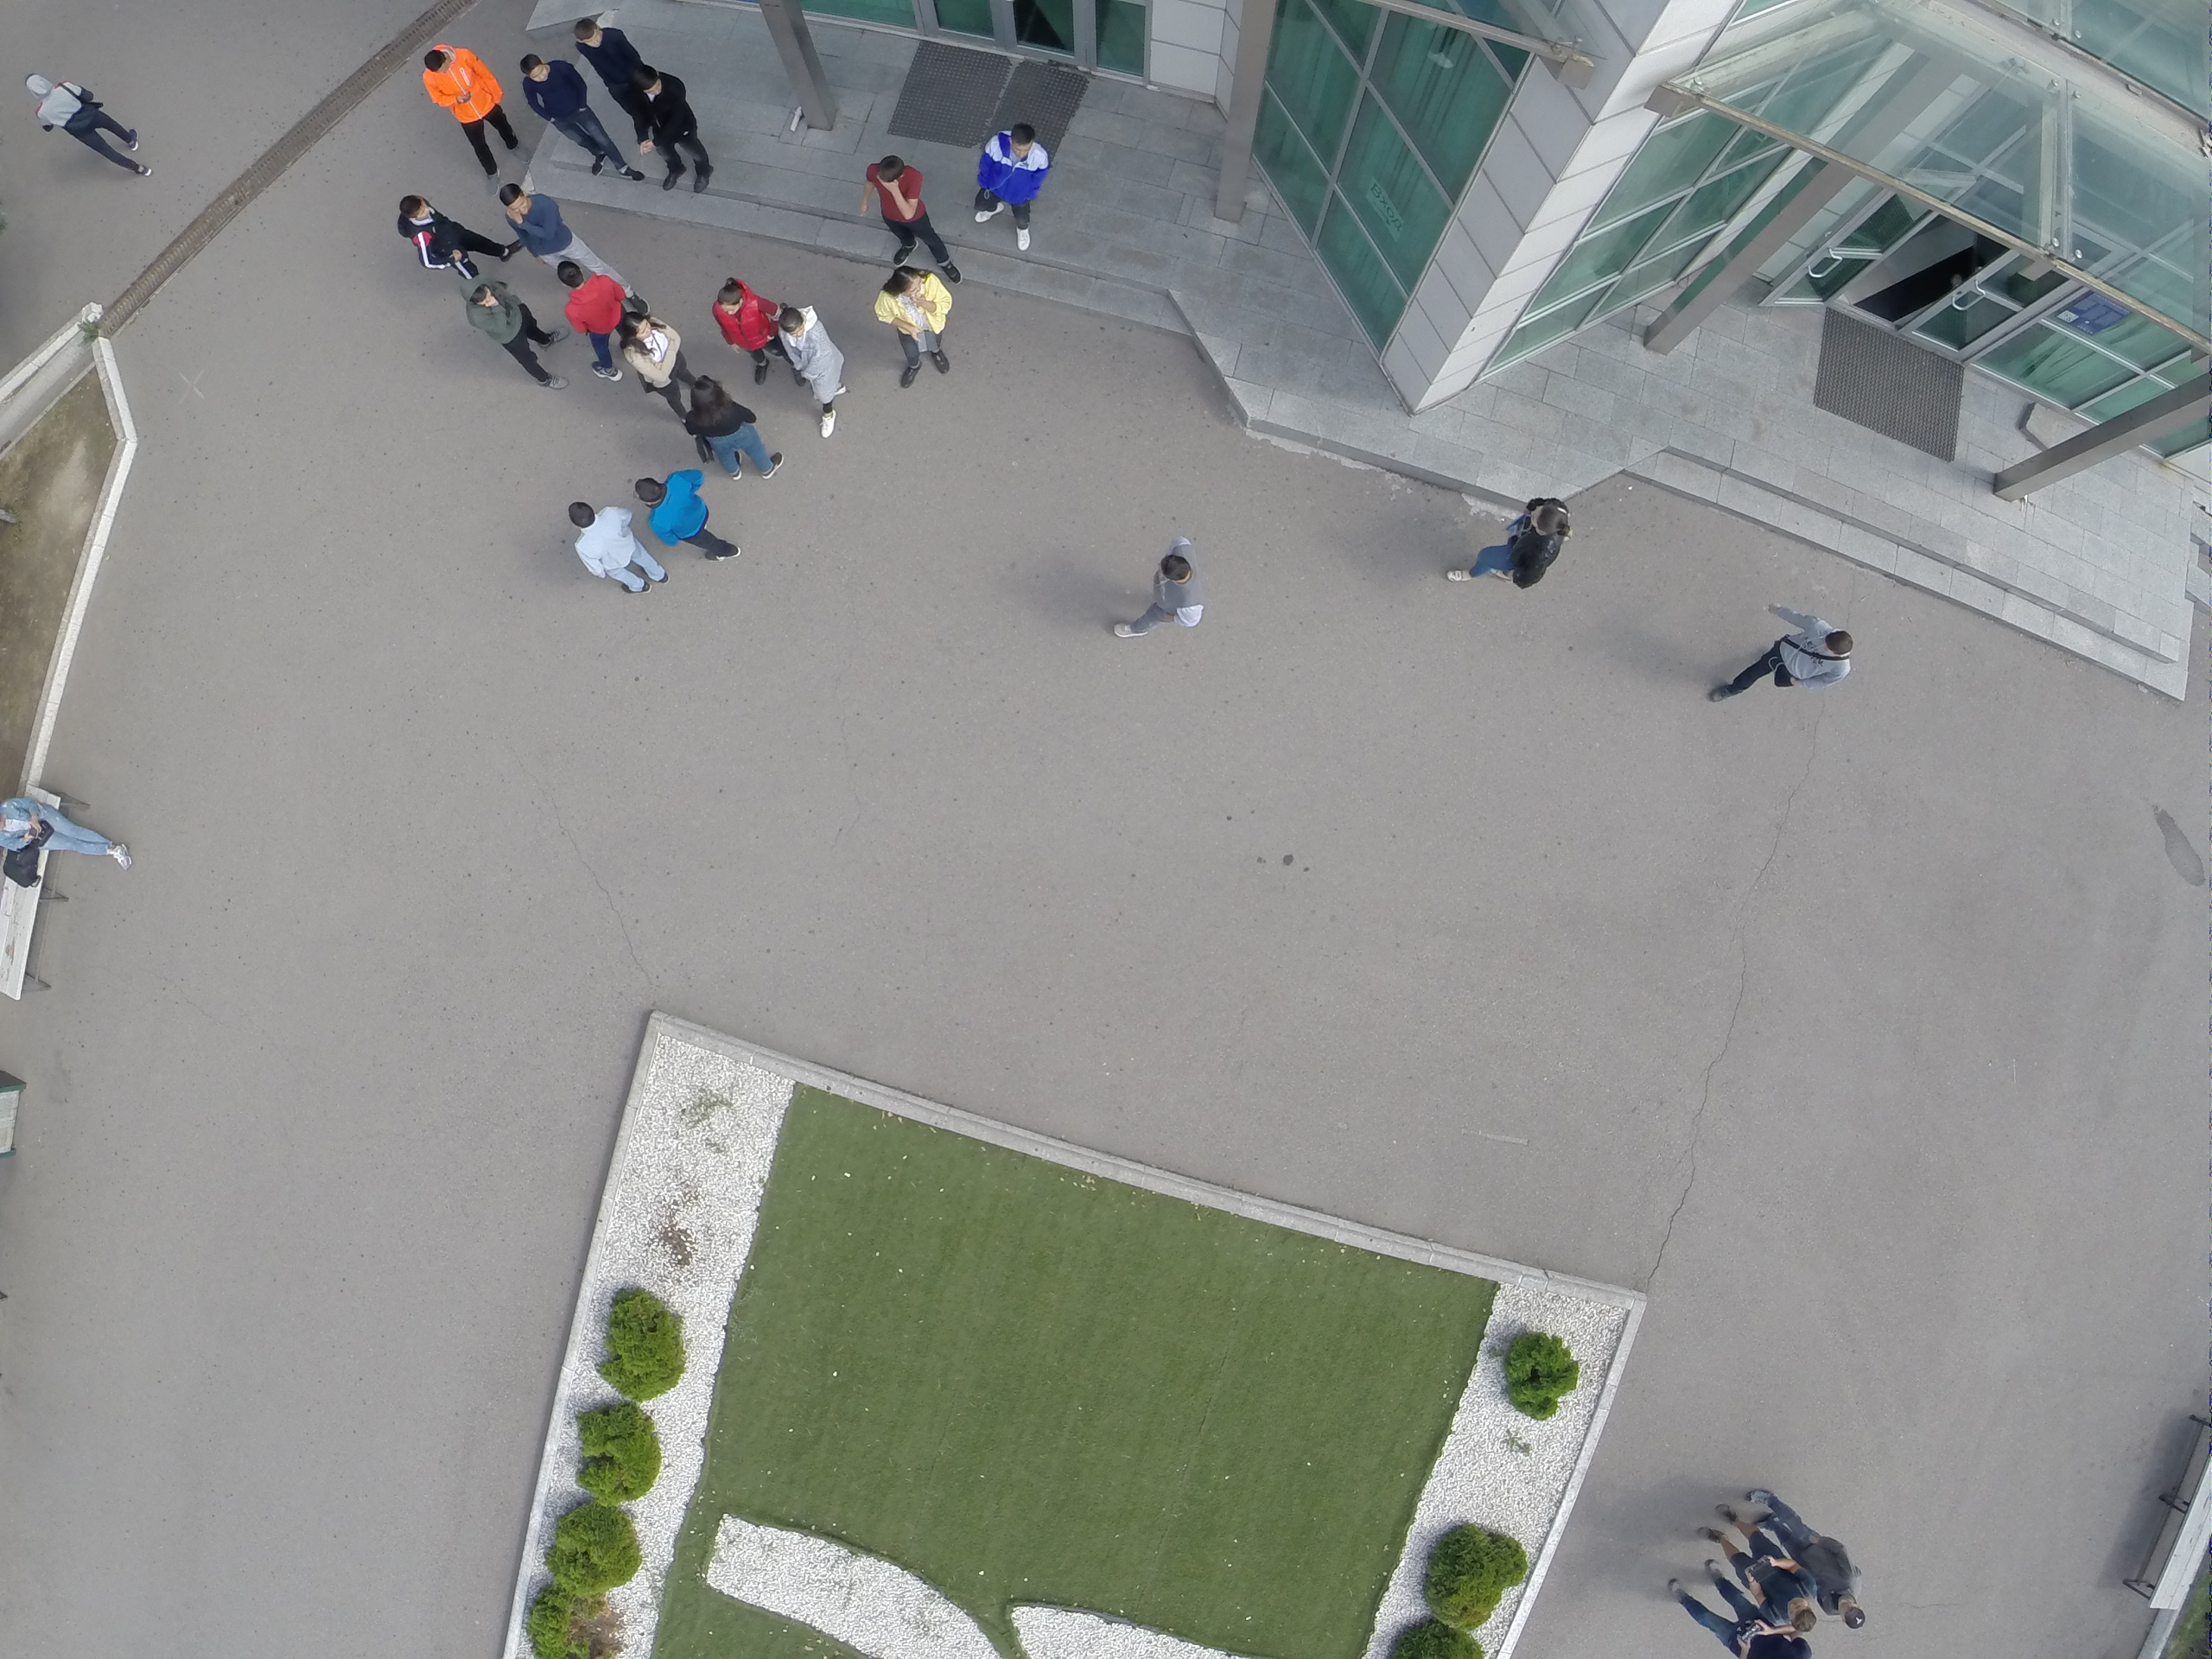person: (1692, 1500, 1823, 1634), (1706, 600, 1853, 717), (520, 48, 633, 188), (23, 66, 153, 180), (422, 44, 523, 177), (1446, 487, 1570, 588), (461, 275, 566, 392), (864, 152, 963, 272), (566, 498, 675, 600), (771, 302, 848, 442), (682, 374, 783, 481), (636, 62, 715, 195), (1106, 532, 1198, 645), (401, 192, 508, 287), (1, 794, 134, 871), (875, 263, 957, 388), (638, 467, 739, 569), (970, 124, 1051, 251), (555, 257, 628, 381), (622, 309, 696, 416), (711, 276, 782, 384), (504, 180, 586, 264), (1805, 1529, 1864, 1624), (569, 14, 640, 83)
